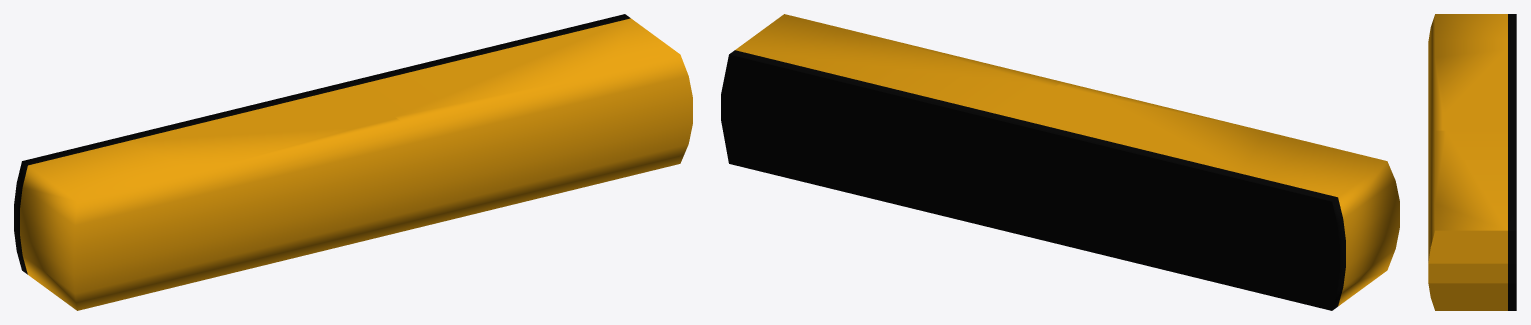
Rendered from f7x-attempt-1.glb.
3 views of the same model, side by side, from view 1: azimuth 30°, elevation 25°; view 2: azimuth 150°, elevation 25°; view 3: azimuth 270°, elevation 25° (orthographic). The views are drawn at different scales.
Visible parts, largest first — view 1: Cube; view 2: Cube; view 3: Cube.
Boxes of the visible parts, left/top/right/bottom form: Cube: left=14, top=14, right=692, bottom=310; Cube: left=721, top=14, right=1399, bottom=310; Cube: left=1428, top=14, right=1516, bottom=310.
Bounding box in the file's own units: 15.7 × 2.65 × 2.63.
